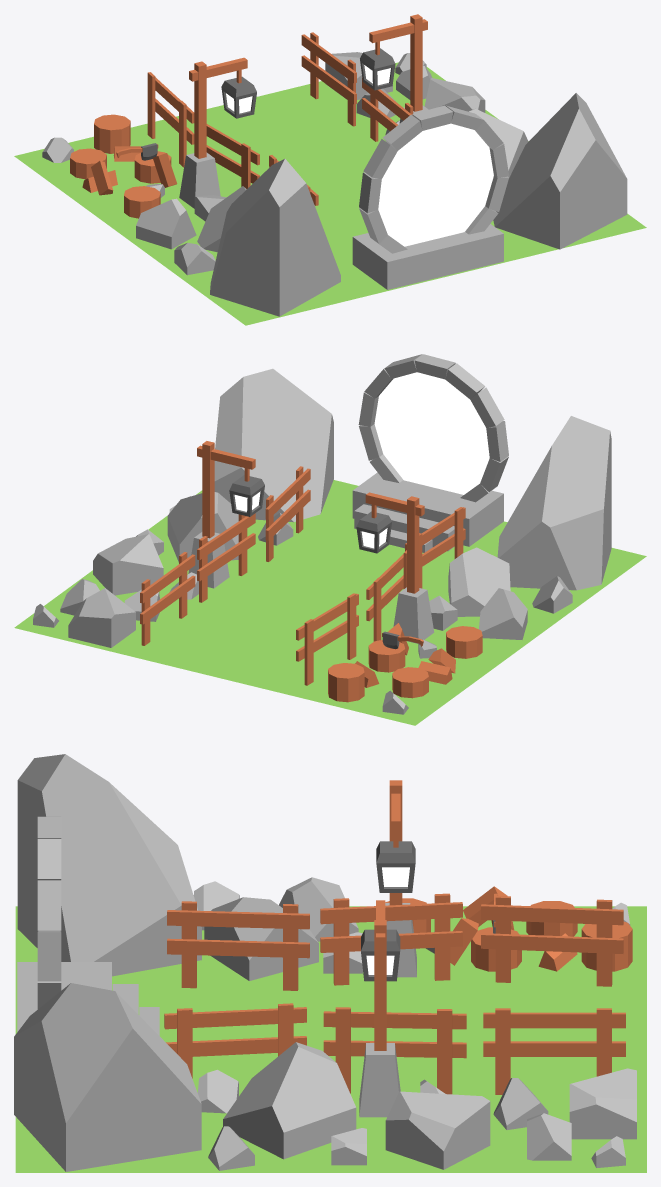
File: portal2.glb
3 views of the same model, one above another, from view 1: azimuth 30°, elevation 25°; view 2: azimuth 150°, elevation 25°; view 3: azimuth 270°, elevation 25° (orthographic). The views are drawn at different scales.
Parts seen in each view (by area): view 1: Plane, Cube.020, Cube.021, Circle, Cube.038, Cube.005, Cube.027, Cube, Cube.009, Cube.013, Cube.008, Cube.001 (+26 smaller); view 2: Plane, Cube.020, Cube.021, Circle, Cube.038, Cube.022, Cube.025, Cube.032, Cube.023, Cube, Cube.004, Cube.005 (+24 smaller); view 3: Plane, Cube.021, Cube.020, Cube.023, Cube.025, Cube, Cube.002, Cube.005, Cube.001, Cube.004, Cube.003, Cube.032 (+25 smaller).
Boxes of the visible parts, <box> form: Plane: <box>14,62,646,325</box>; Cube.020: <box>210,159,340,316</box>; Cube.021: <box>493,93,627,249</box>; Circle: <box>378,123,493,246</box>; Cube.038: <box>352,224,503,289</box>; Cube.005: <box>301,32,356,126</box>; Cube.027: <box>136,198,196,249</box>; Cube: <box>147,72,194,167</box>; Cube.009: <box>189,57,247,158</box>; Cube.013: <box>369,14,427,111</box>; Cube.008: <box>179,152,220,208</box>; Cube.001: <box>206,124,259,188</box>; Plane: <box>14,480,646,725</box>; Cube.020: <box>497,416,611,590</box>; Cube.021: <box>214,368,333,522</box>; Circle: <box>374,372,489,494</box>; Cube.038: <box>352,472,503,546</box>; Cube.022: <box>448,547,510,616</box>; Cube.025: <box>93,534,163,595</box>; Cube.032: <box>68,588,135,647</box>; Cube.023: <box>167,492,238,562</box>; Cube: <box>296,593,358,685</box>; Cube.004: <box>197,513,255,602</box>; Cube.005: <box>140,552,195,645</box>; Plane: <box>15,906,646,1172</box>; Cube.021: <box>14,983,201,1171</box>; Cube.020: <box>17,754,201,976</box>; Cube.023: <box>223,1042,356,1159</box>; Cube.025: <box>385,1091,490,1169</box>; Cube: <box>481,895,623,986</box>; Cube.002: <box>167,901,309,990</box>; Cube.005: <box>483,1008,625,1094</box>; Cube.001: <box>320,893,462,985</box>; Cube.004: <box>323,1007,466,1094</box>; Cube.003: <box>164,1003,306,1078</box>; Cube.032: <box>569,1068,636,1139</box>.
Size of the model in its own units: 4 by 1.48 by 4.01.
